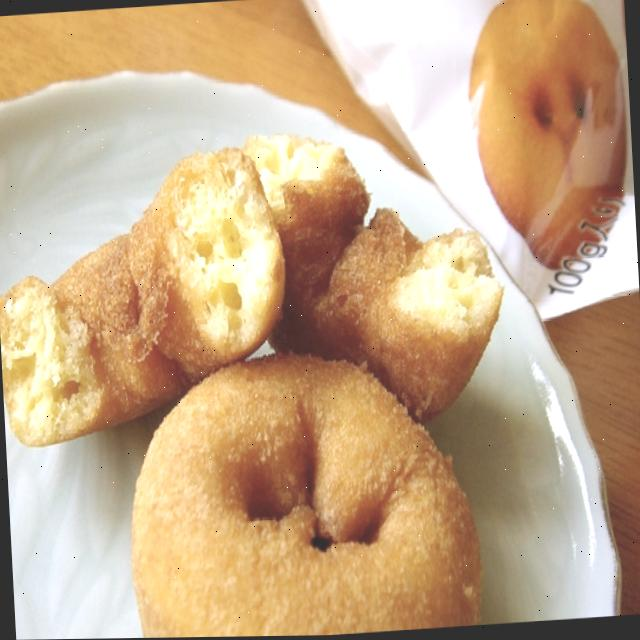炸货点心: (1, 15, 528, 640)
